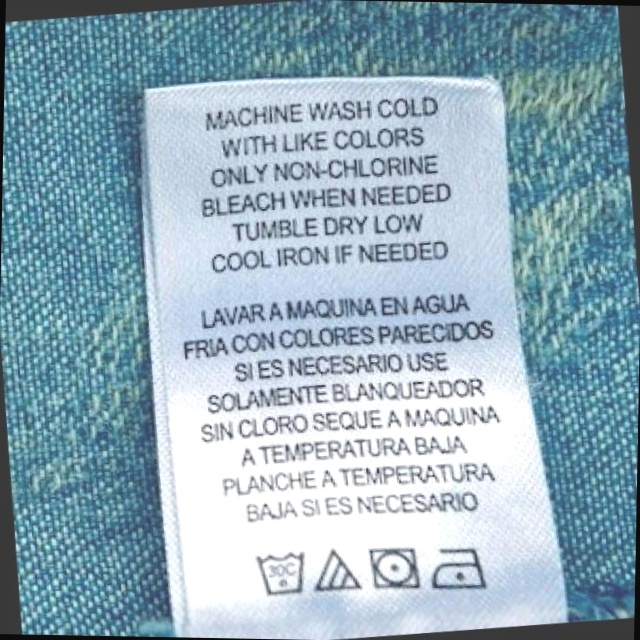30C: (253, 539, 313, 600)
iron_low: (425, 538, 489, 597)
non_chlorine_bleach: (313, 545, 361, 596)
tumble_dry_low: (365, 539, 431, 598)
